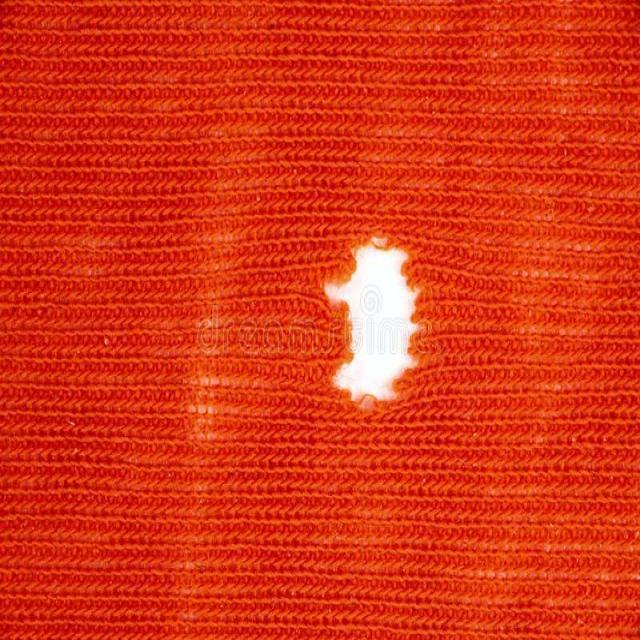Hole: (325, 237, 420, 406)
